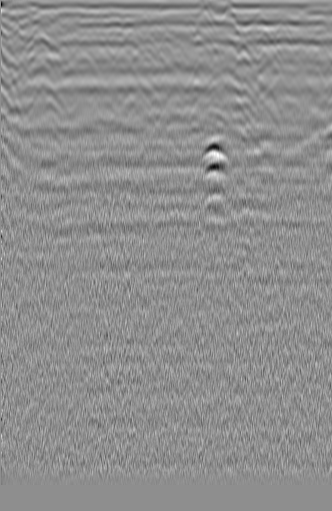가스: (188, 136, 234, 177)
상수: (294, 36, 330, 67)
오수: (17, 29, 59, 64)
우수: (131, 41, 172, 70)
